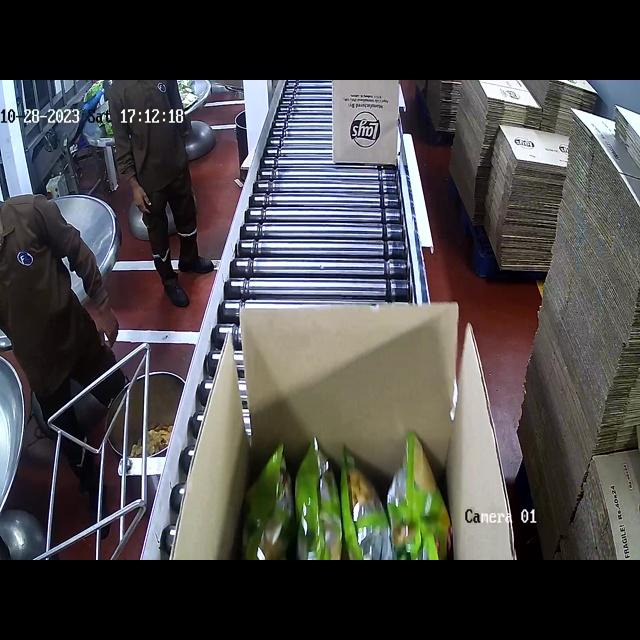yogurt: (257, 448, 448, 560)
